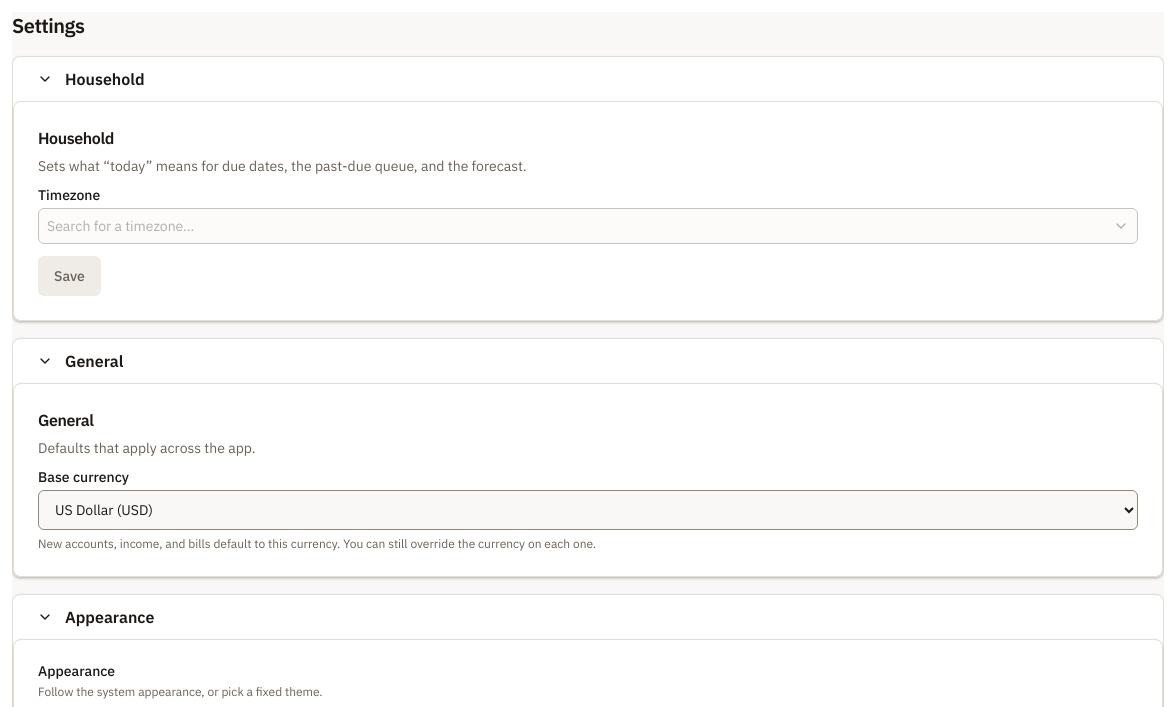
Test: SettingsView › saves a new base-currency selection
The image size is (1176, 707).
Select "Euro (EUR)" in the dropdown labelled "Base currency": (588, 510) [38,490,1138,530]
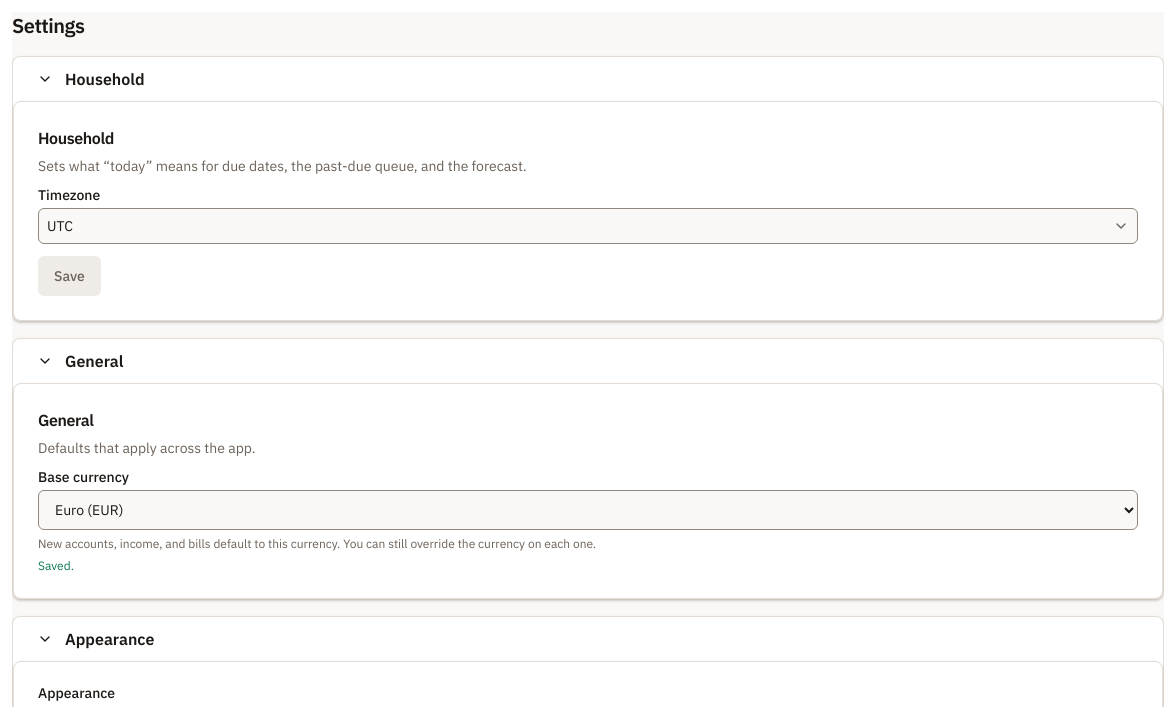
Result: the text "Saved." is shown at [38,558,74,573]
